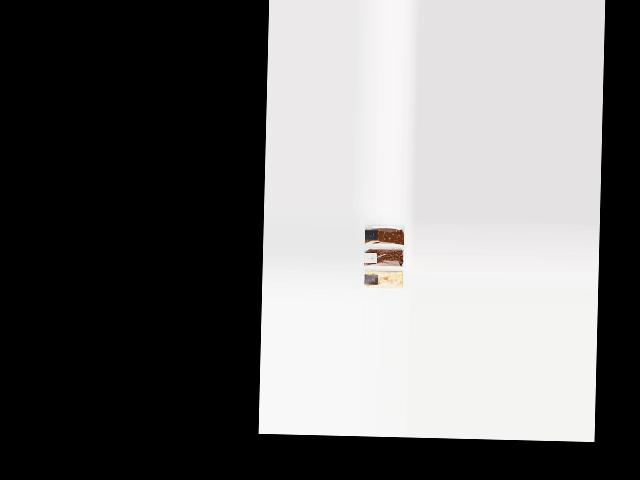chocolate: (364, 224, 406, 243)
